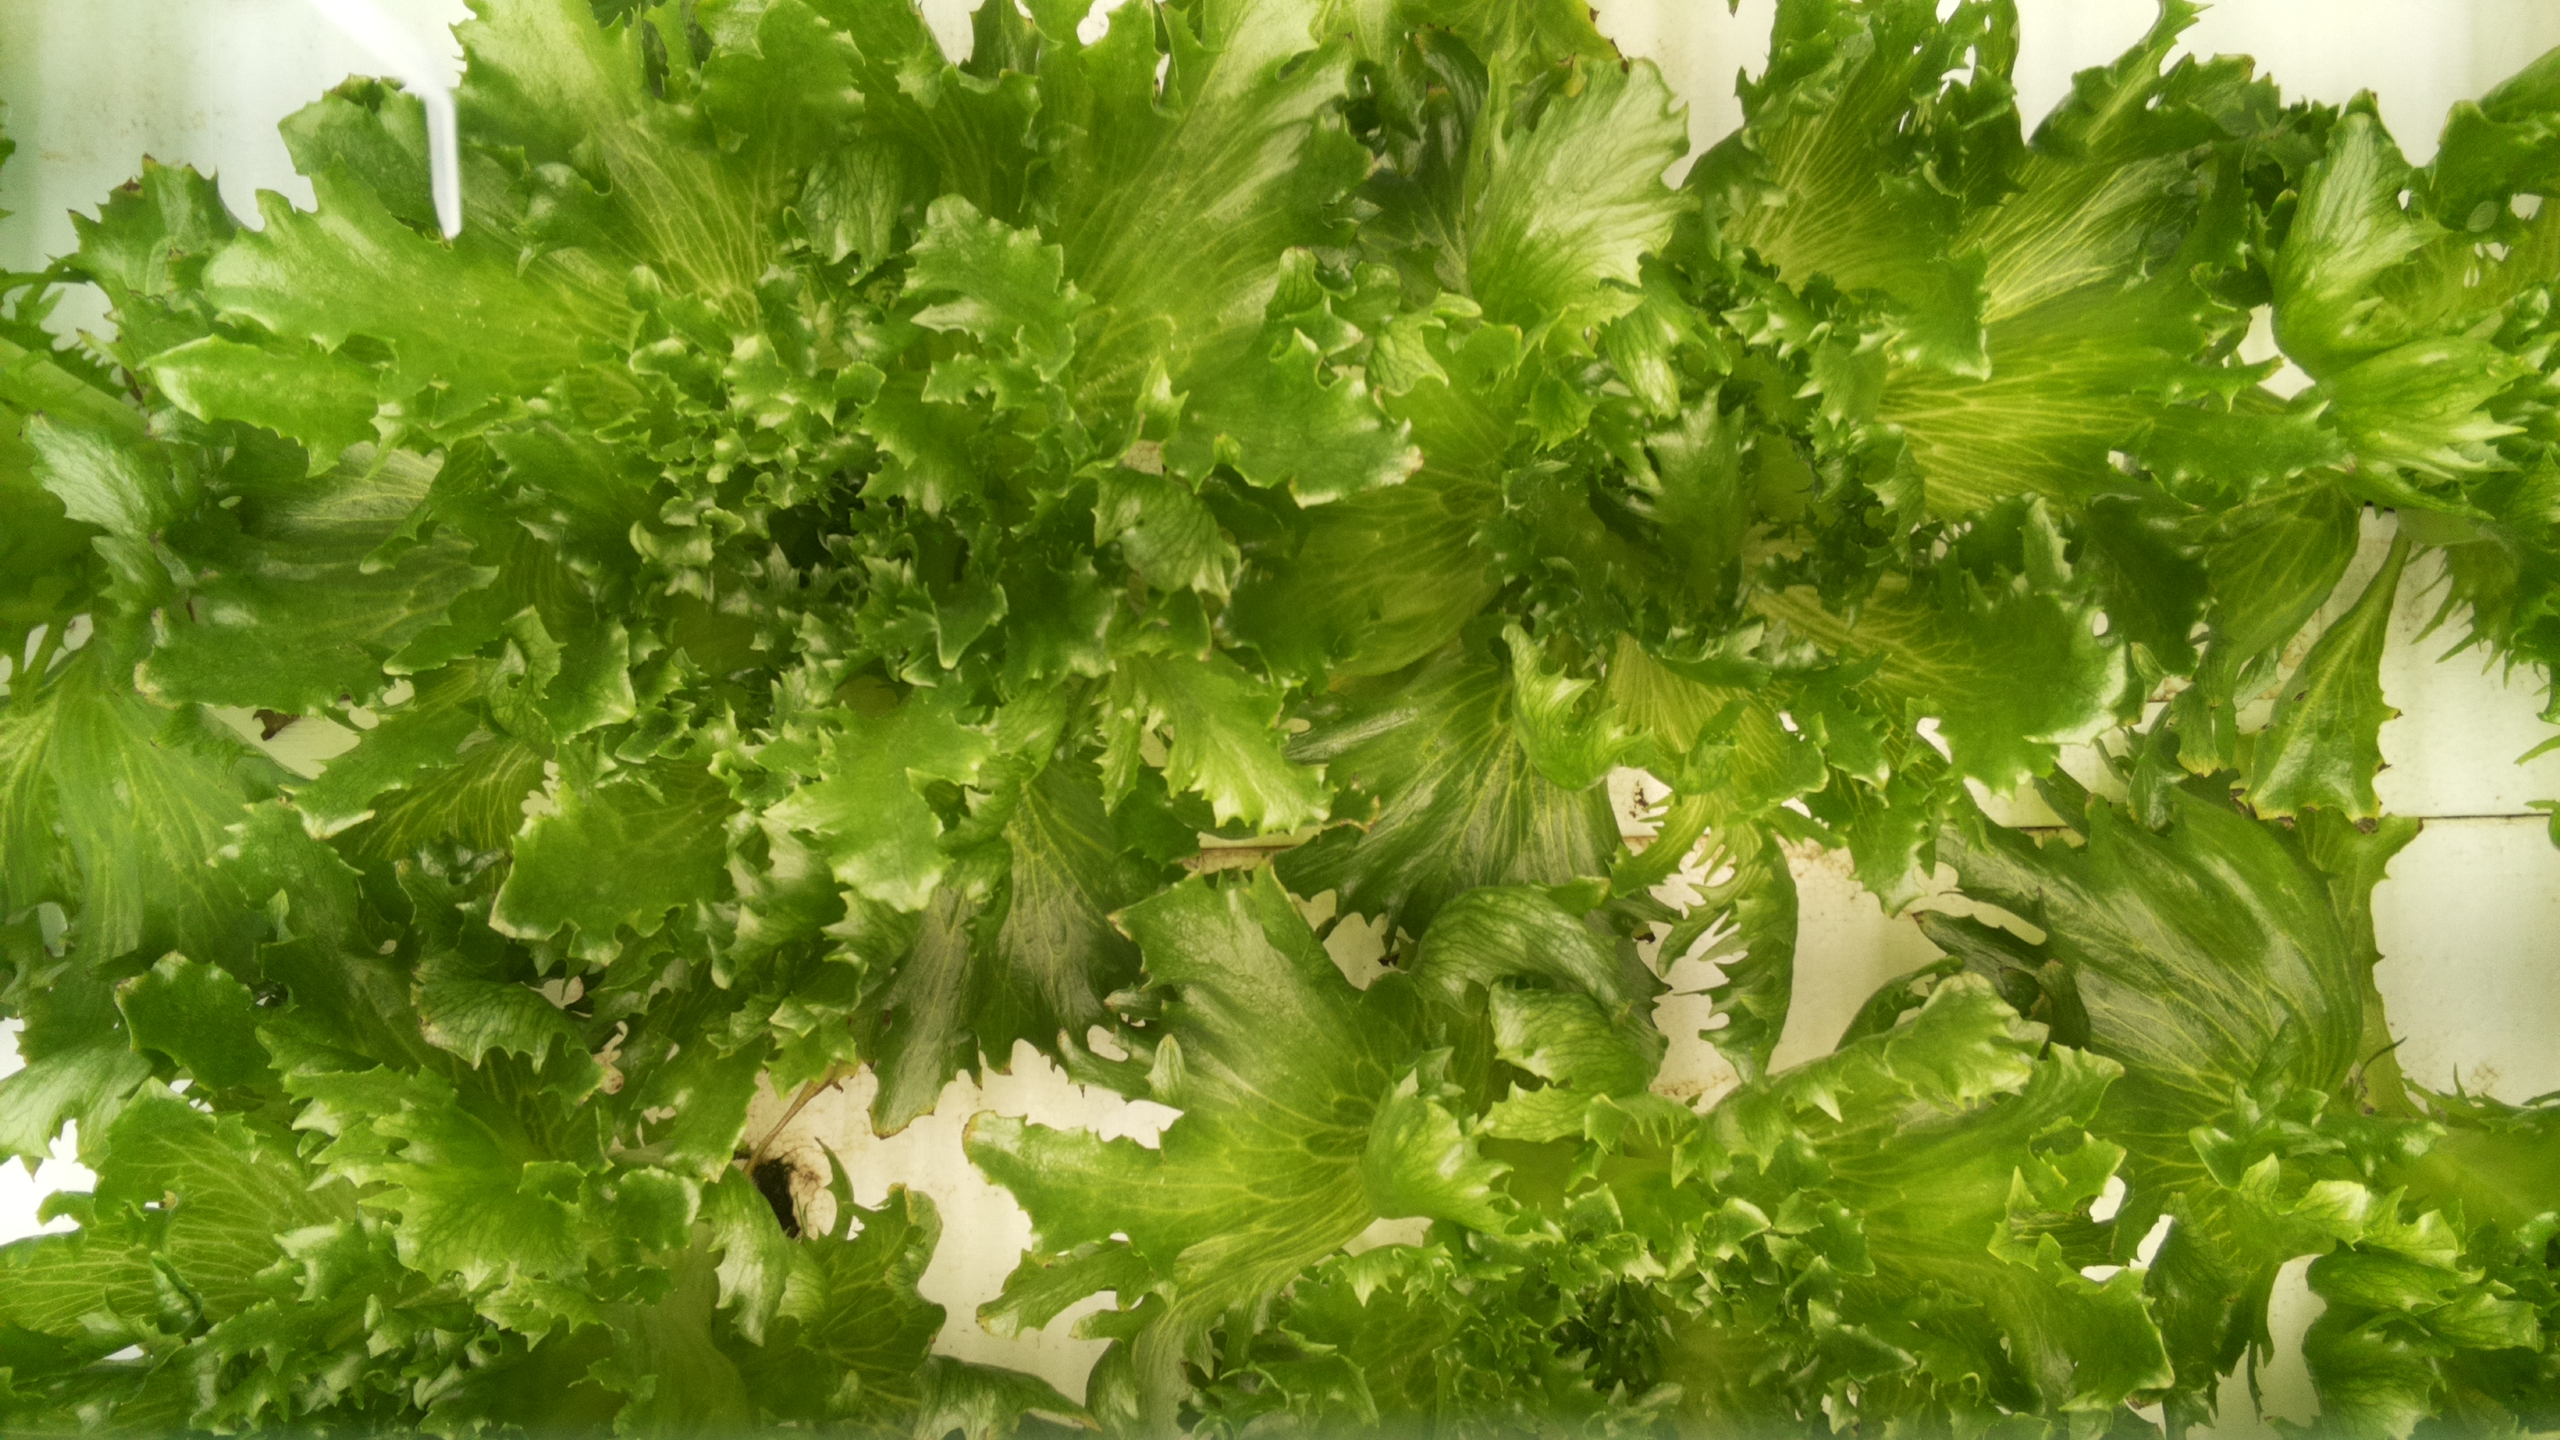tipburn: (2201, 763, 2330, 842), (1326, 761, 1387, 840), (102, 144, 183, 204), (976, 1043, 1044, 1108), (1895, 886, 1952, 948), (1087, 902, 1155, 948), (835, 1027, 902, 1073), (849, 1111, 921, 1153), (74, 311, 132, 355), (1635, 967, 1686, 1011), (2400, 802, 2444, 851), (144, 236, 192, 273), (1628, 918, 1674, 955), (2374, 745, 2412, 784), (2386, 700, 2419, 733)
